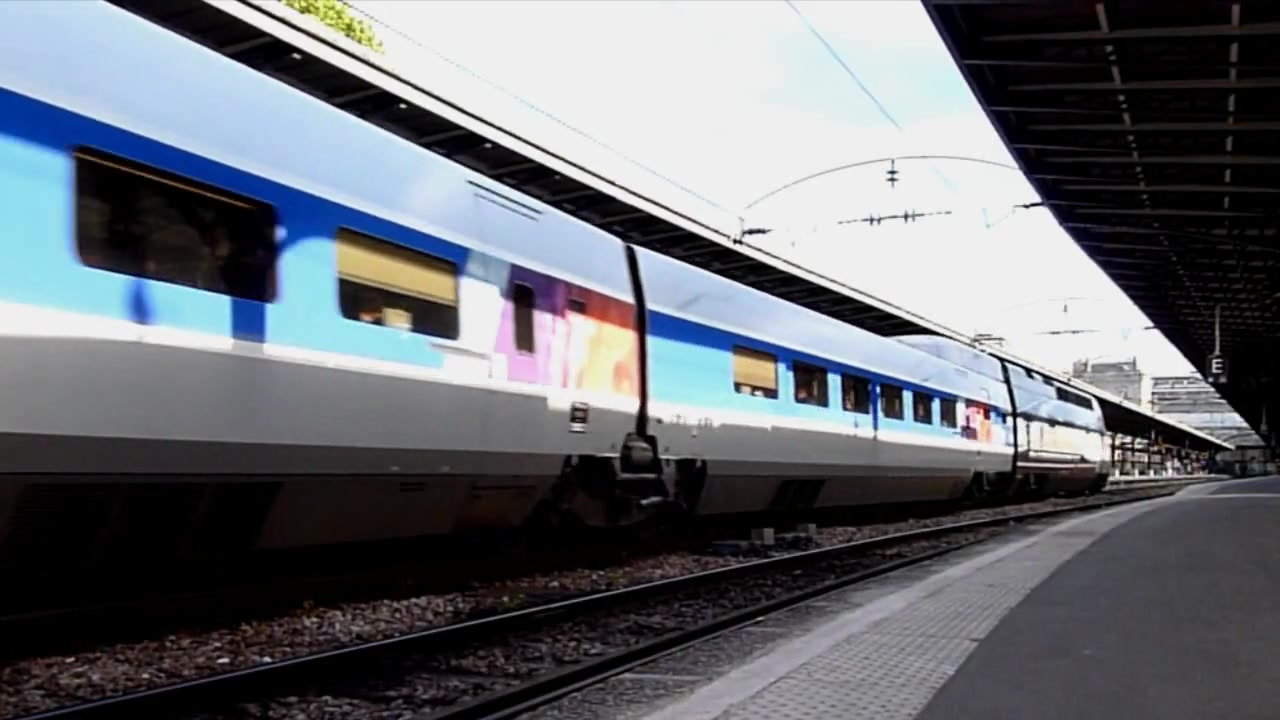train: (1, 1, 1114, 599)
